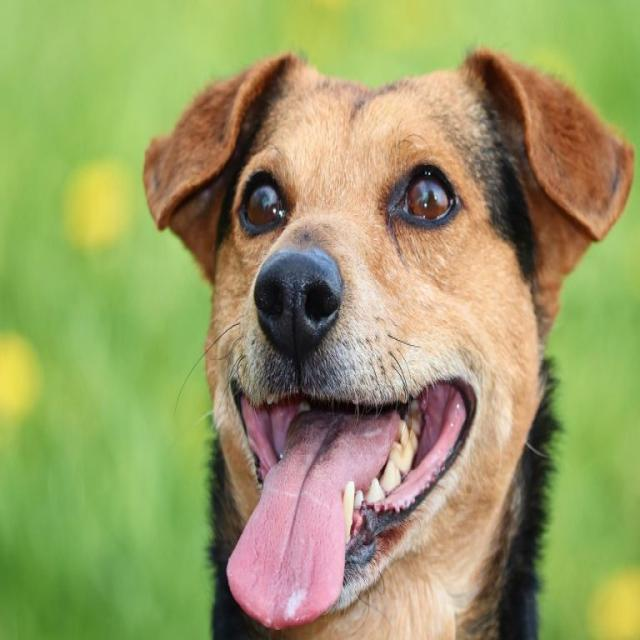animal: (82, 26, 633, 623)
